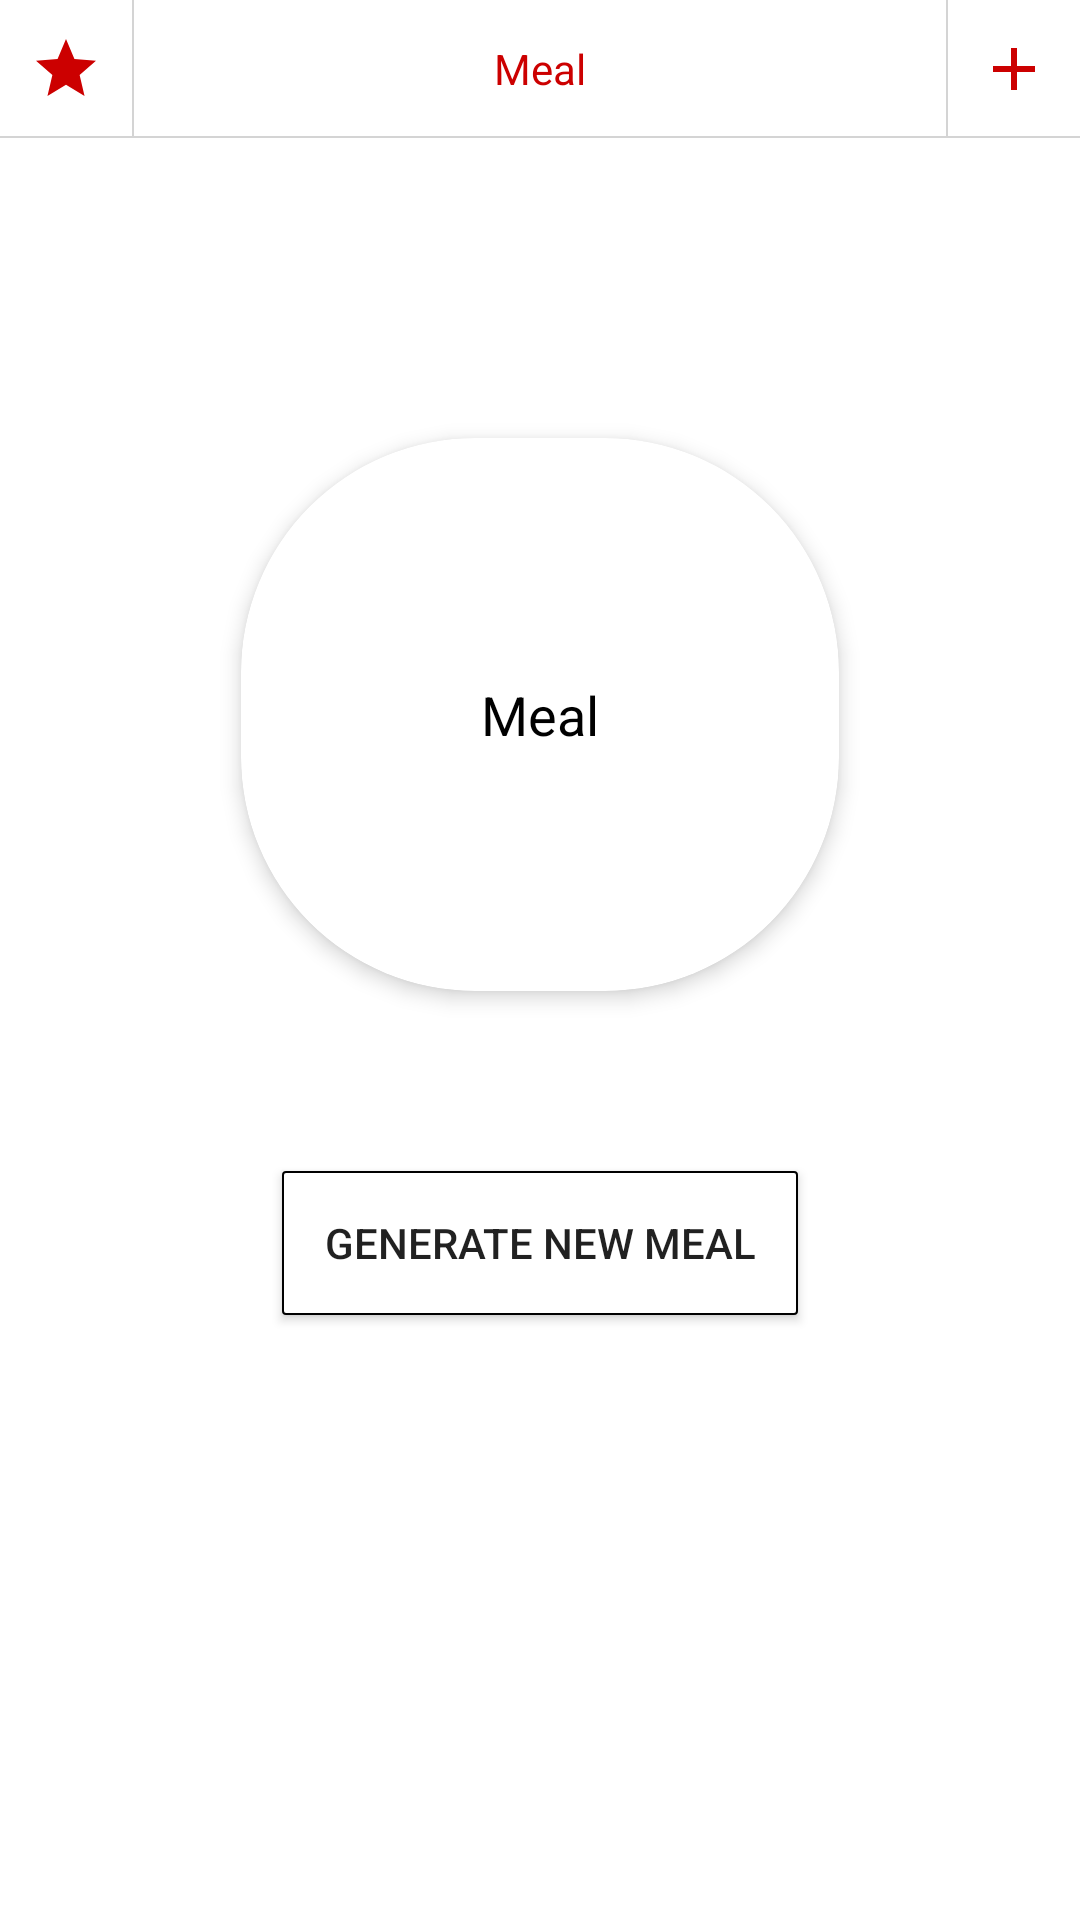

Named icons in this screenshot (1080 × 1920) and their centers, point (x, y):
add: point (1014, 69)
Favourite meals: point (66, 67)
